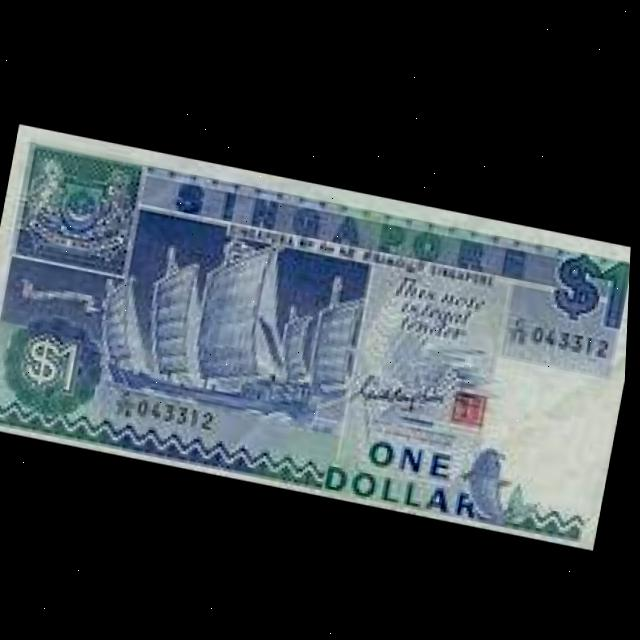banknote: (0, 120, 636, 544), (325, 405, 497, 519), (538, 236, 633, 338), (11, 323, 103, 409)
